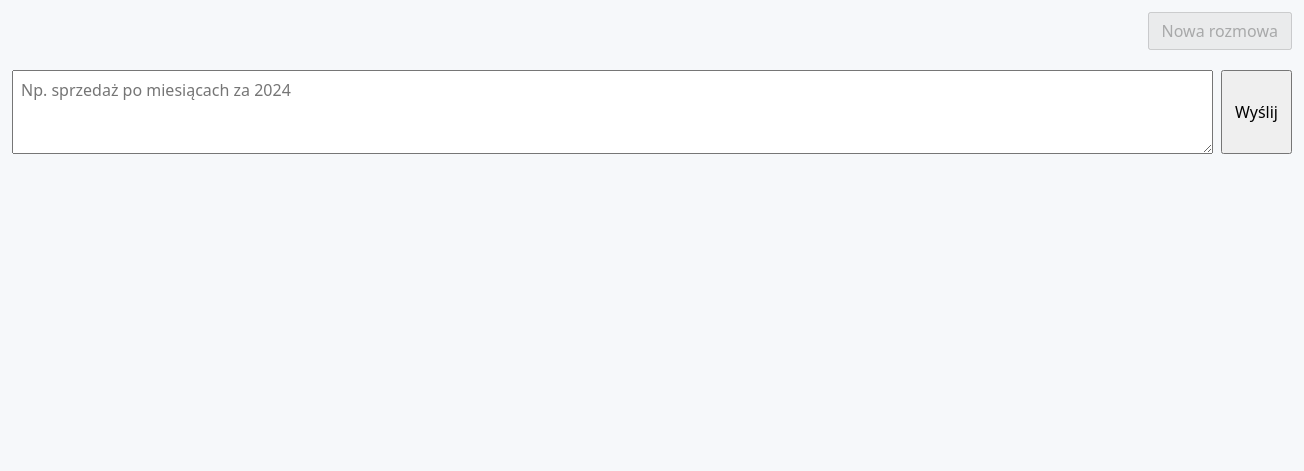
Scenario: ChatView › locks the candidates of an earlier answer after a new prompt
The image size is (1304, 471).
Type "Klient" into the text box named "Twoja prośba".
click(612, 112); type("Klient")  # box [12,70,1213,154]
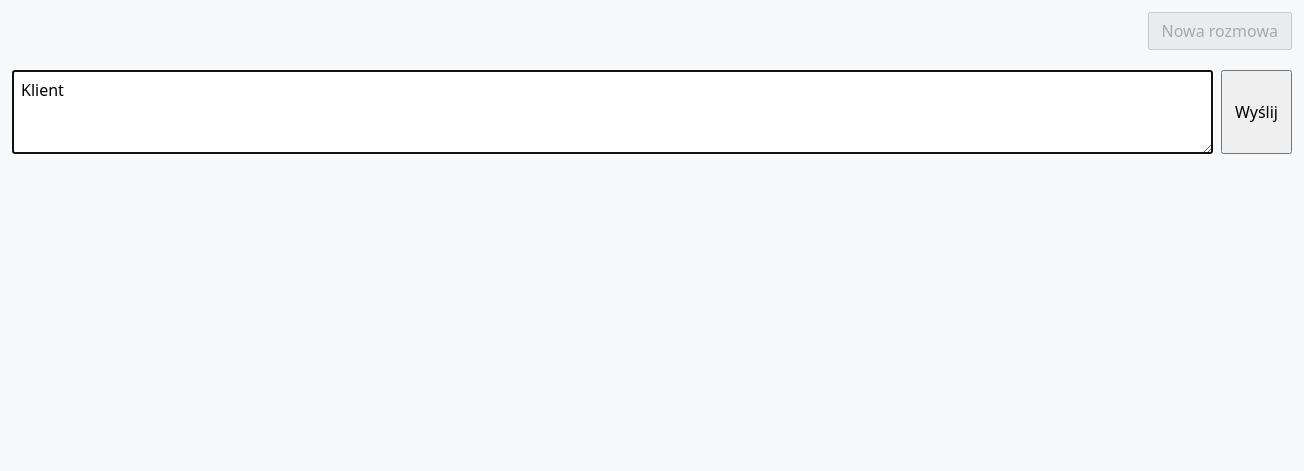
Click the button "Wyślij".
click(1256, 112)  # box [1221,70,1292,154]
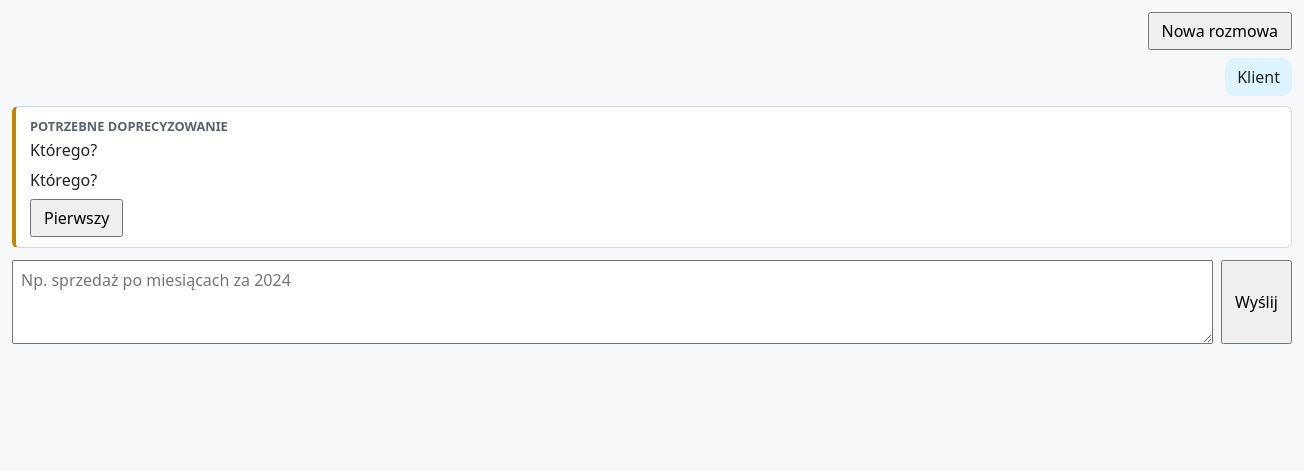
Check: the button "Pierwszy" is shown, box [30,199,123,237]
Type "Coś innego" into the text box named "Twoja prośba".
click(612, 302); type("Coś innego")  # box [12,260,1213,344]
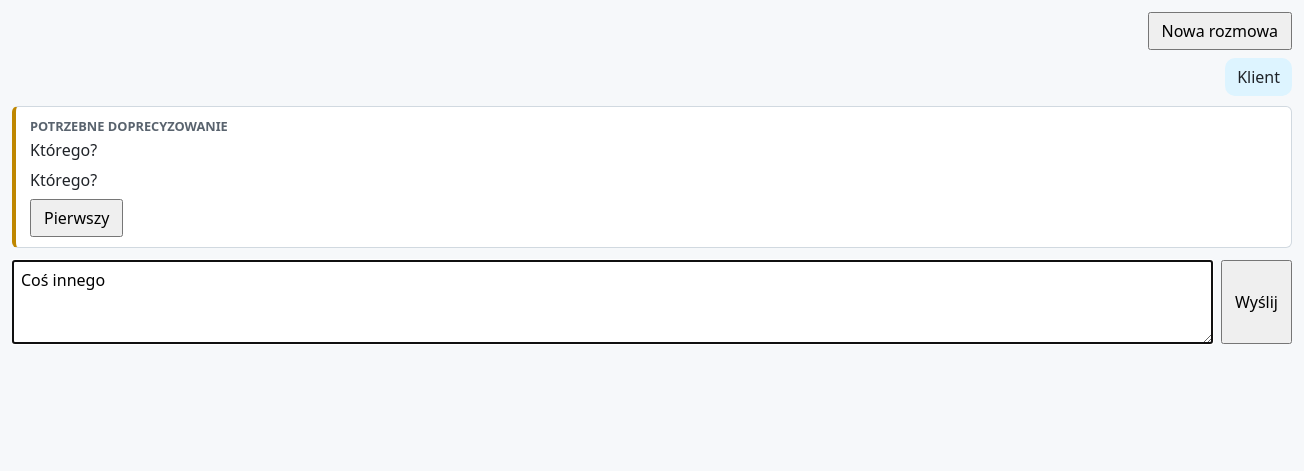
Click the button "Wyślij".
click(1256, 302)  # box [1221,260,1292,344]
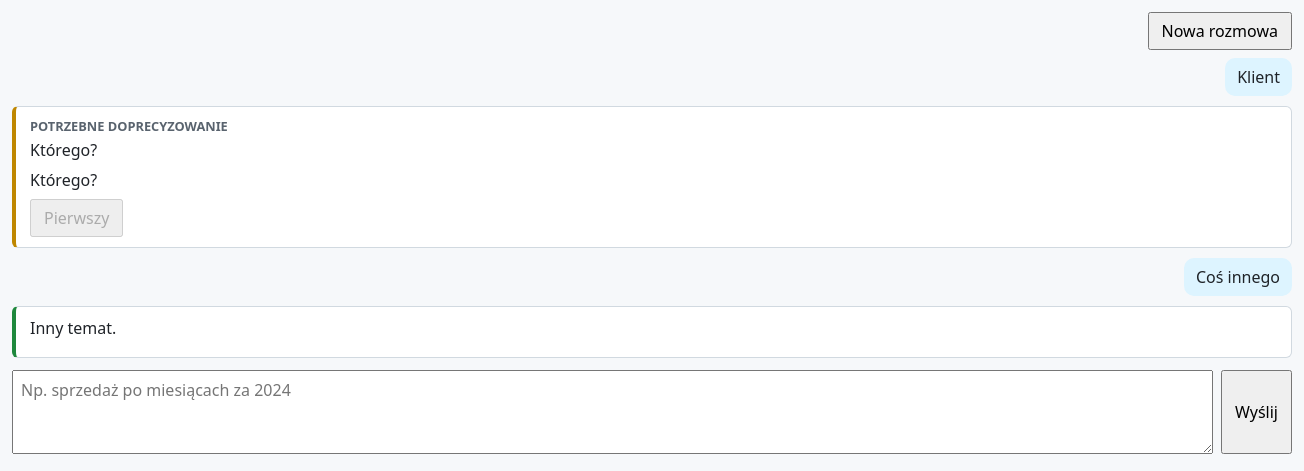
Check: the text "Inny temat." is shown, box [30,317,116,339]
Check: the button "Pierwszy" is disabled, box [30,199,123,237]
